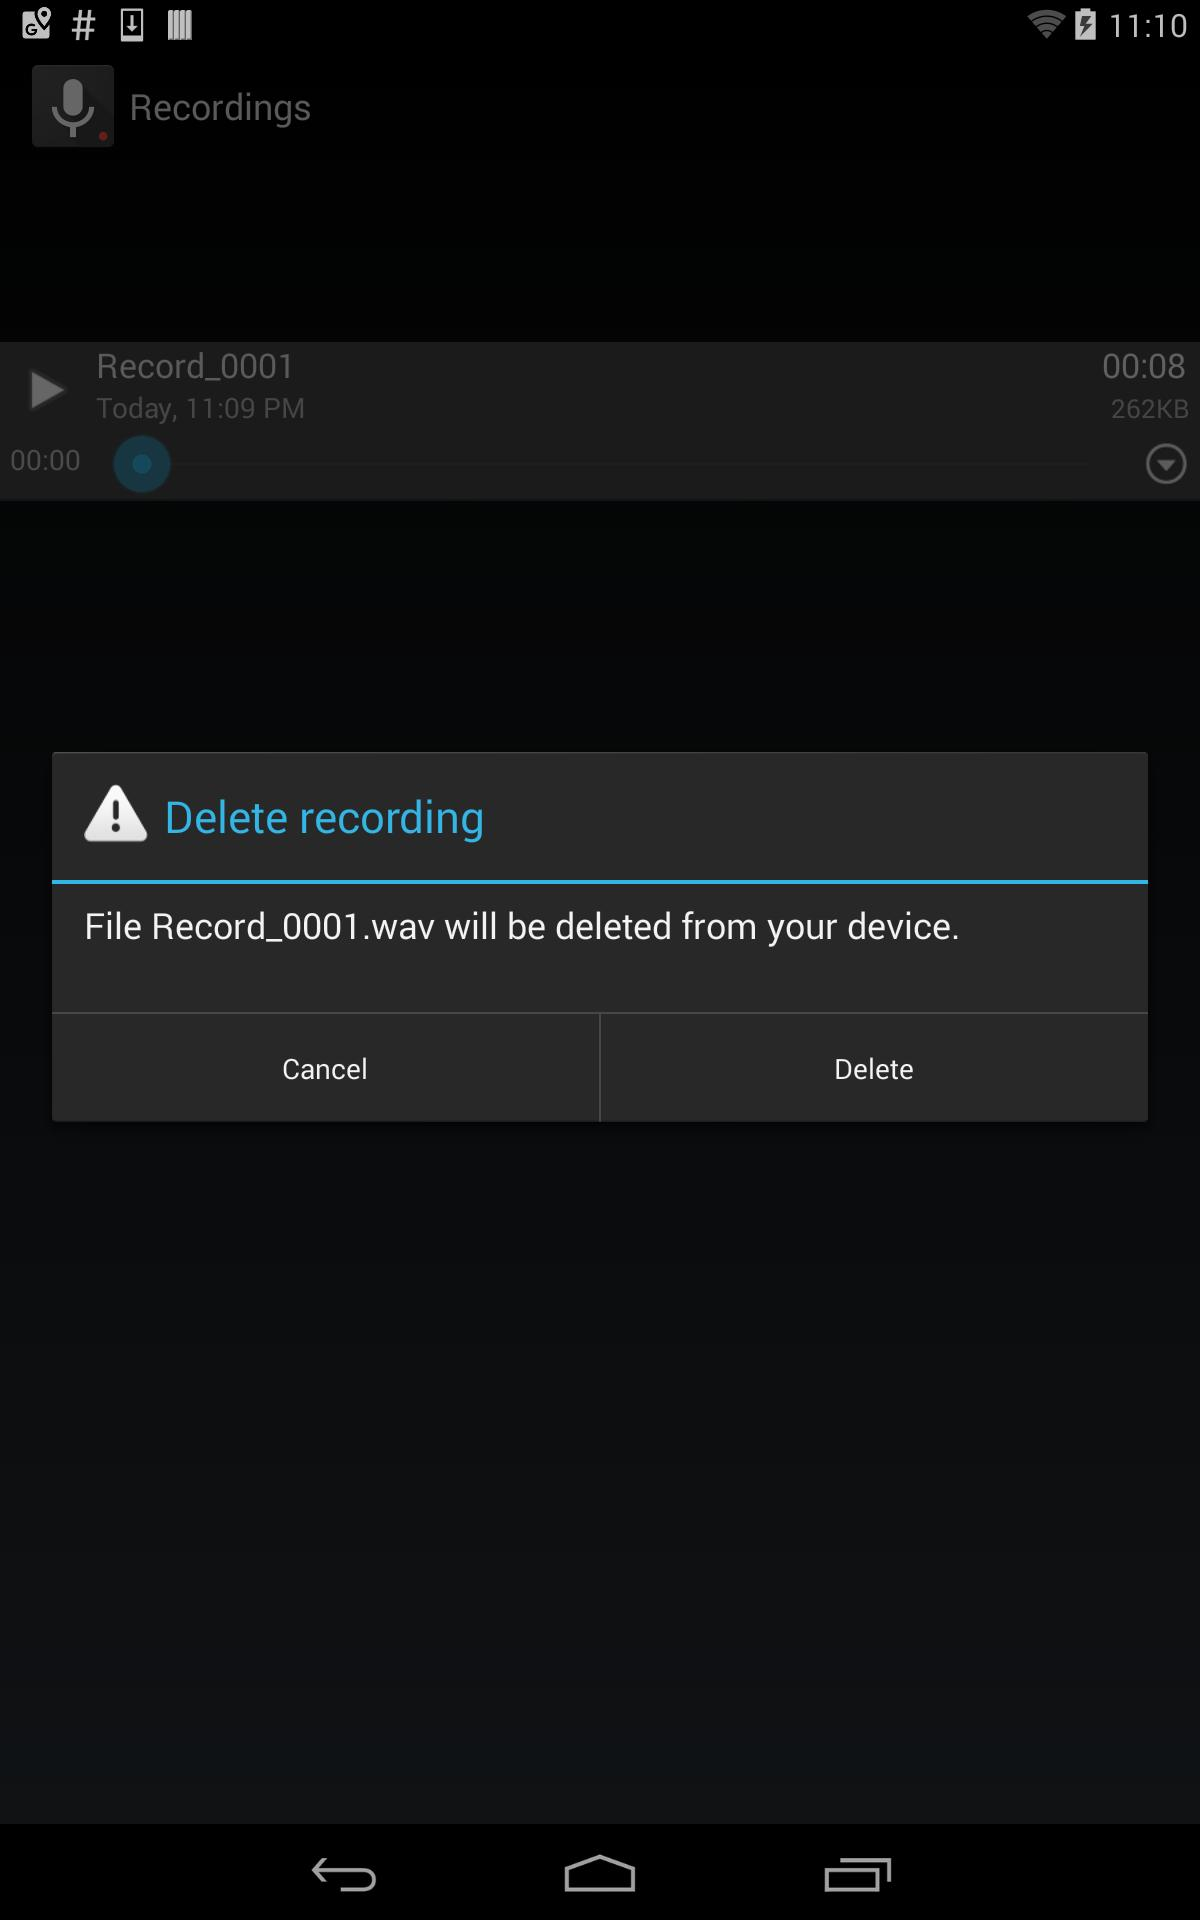android.view.View: (53, 881, 1147, 885)
android.widget.Button: (53, 1015, 599, 1122), (601, 1015, 1147, 1122)
android.widget.FrameLayout: (19, 735, 1181, 1138)
android.widget.ImageView: (84, 784, 165, 847)
android.widget.LinearLayout: (36, 735, 1164, 1138), (36, 735, 1164, 885), (36, 885, 1164, 1012), (36, 1012, 1164, 1138), (84, 752, 1116, 881), (53, 1015, 1147, 1122)
android.widget.ScrollView: (53, 885, 1147, 965)
android.widget.TextView: (53, 885, 1147, 965), (165, 787, 1116, 845)
